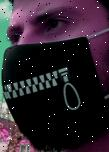with_mask: (1, 2, 109, 152)
